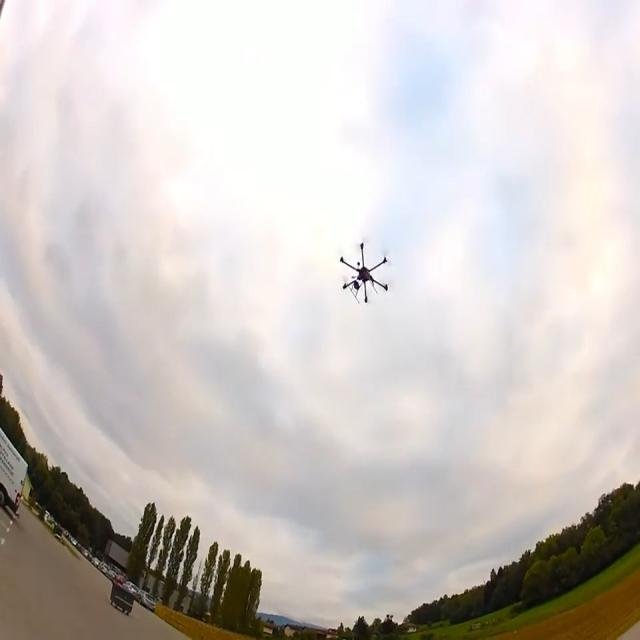drone: (339, 241, 388, 304)
